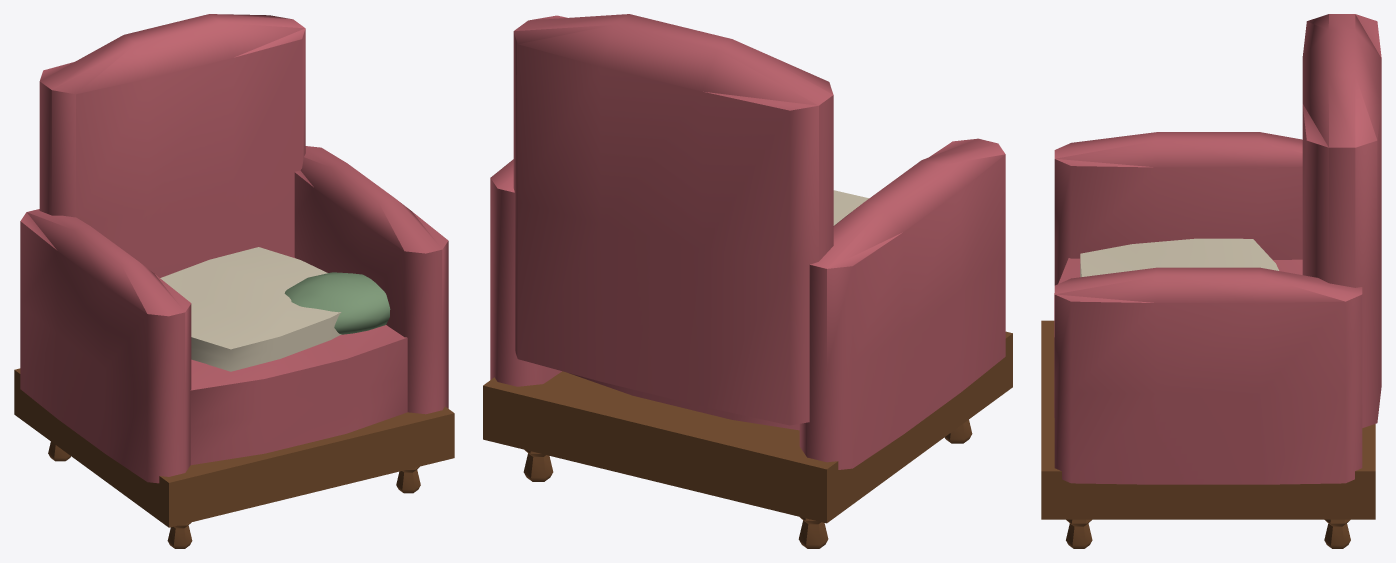
Rendered from armchair.glb.
3 renders of one model, left to right at view 1: azimuth 30°, elevation 25°; view 2: azimuth 150°, elevation 25°; view 3: azimuth 270°, elevation 25°, orthographic. The views are drawn at different scales.
Parts seen in each view (by area): view 1: furniture-armchair; view 2: furniture-armchair; view 3: furniture-armchair.
Boxes of the visible parts, x1,y1,x2,y2 form: furniture-armchair: [14, 14, 454, 548]; furniture-armchair: [483, 14, 1012, 548]; furniture-armchair: [1041, 14, 1381, 548].
Size of the model in its own units: 0.8581 by 1.07 by 0.7638.
